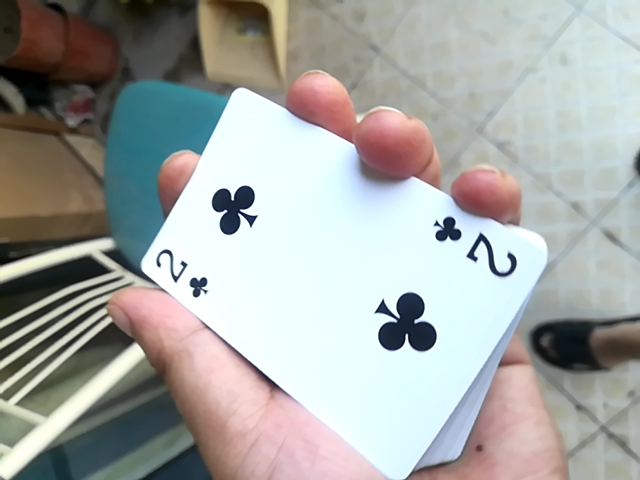mh 2: (127, 89, 548, 474)
